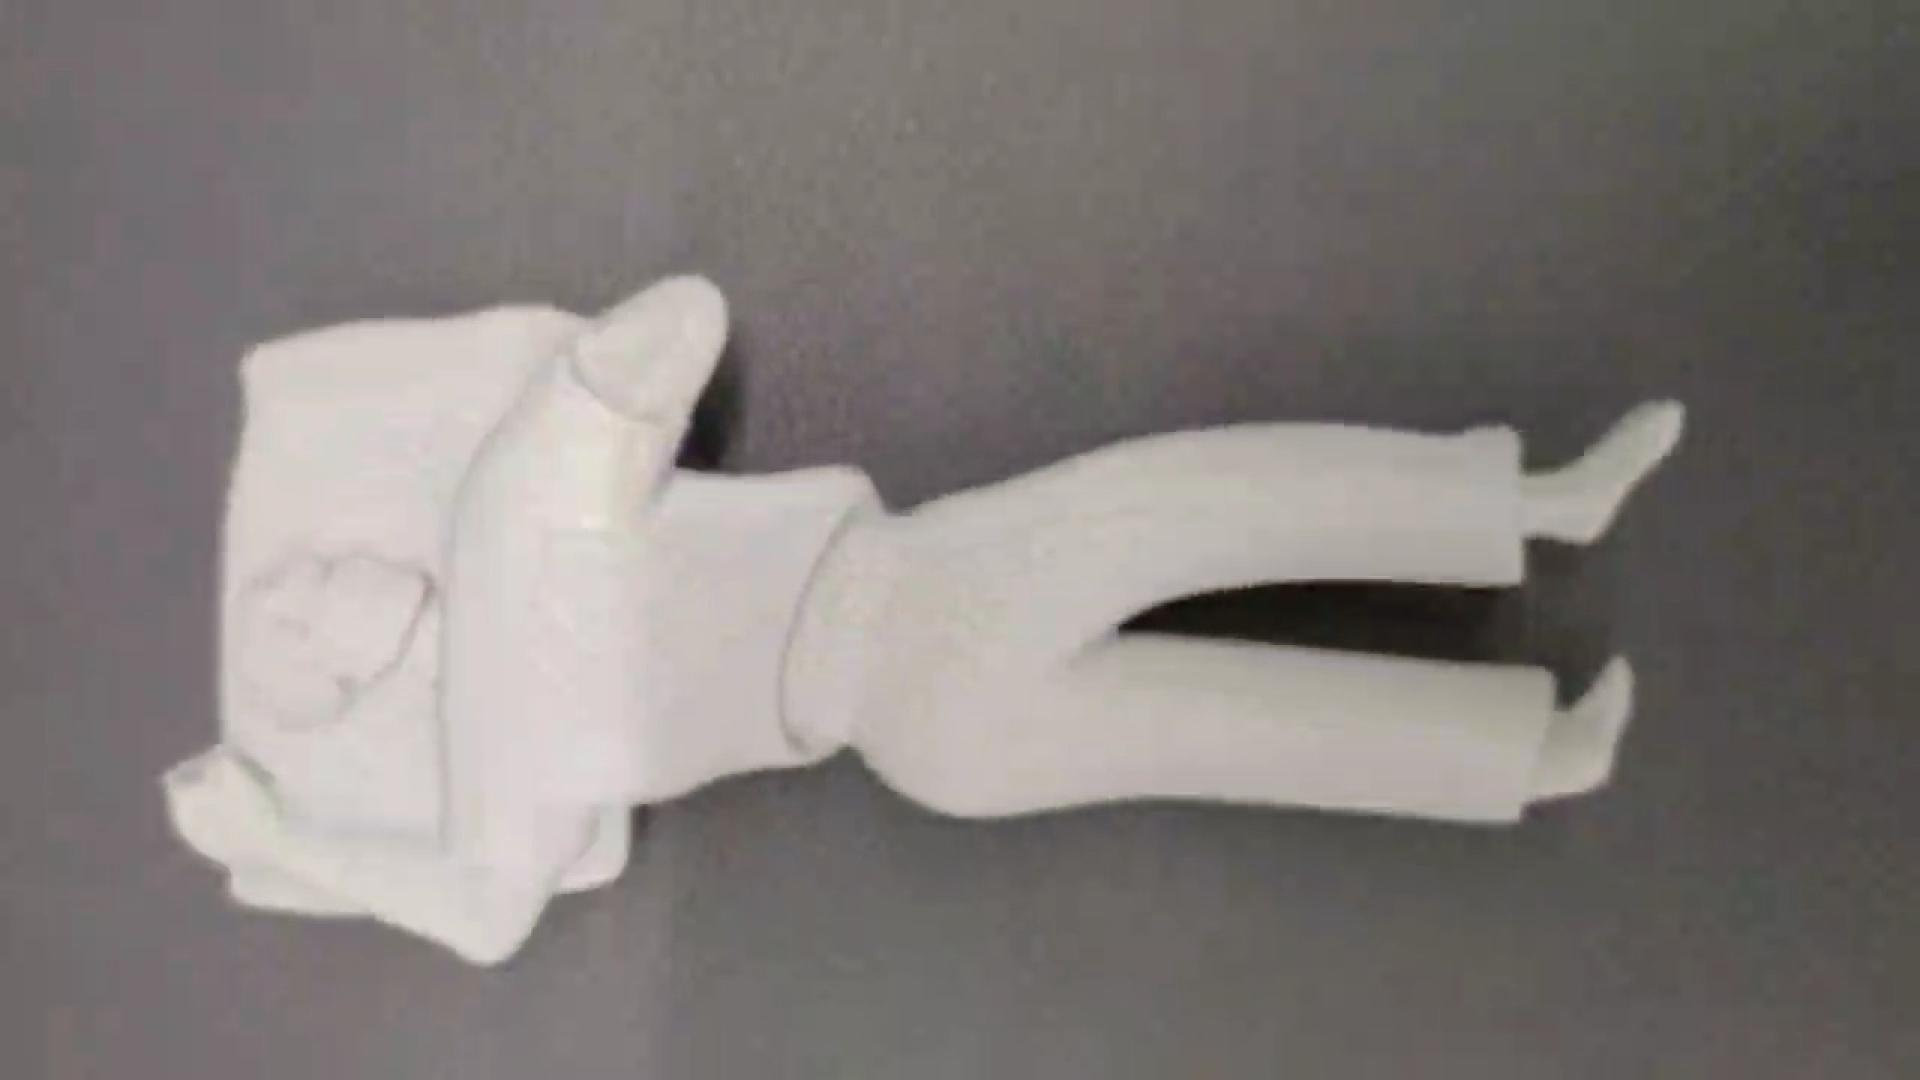Bad-style: (153, 269, 1684, 971)
